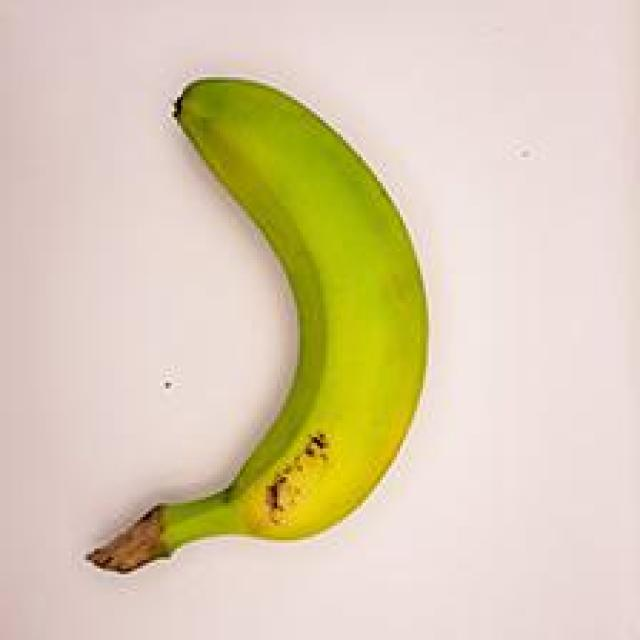Unripe: (57, 51, 457, 600)
